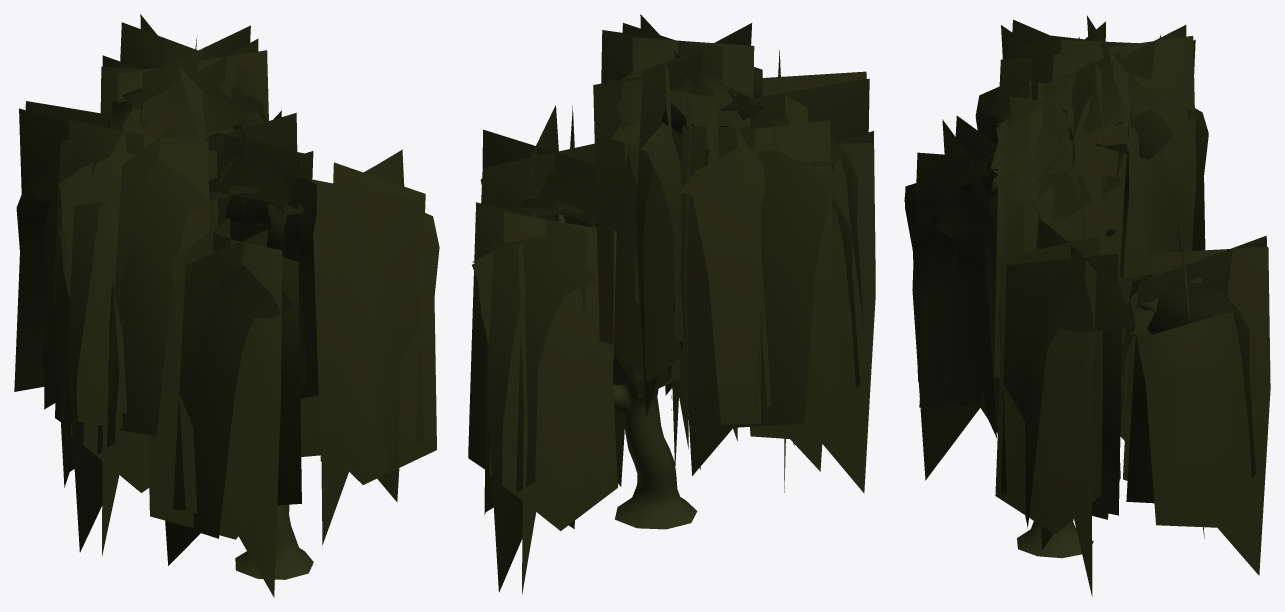
The model's file is willow01.glb.
3 renders of one model, left to right at view 1: azimuth 30°, elevation 25°; view 2: azimuth 150°, elevation 25°; view 3: azimuth 270°, elevation 25°, orthographic. The views are drawn at different scales.
Visible parts, largest first — view 1: willow01_LOD0; view 2: willow01_LOD0; view 3: willow01_LOD0.
Boxes of the visible parts, x1,y1,x2,y2 form: willow01_LOD0: (14,14,439,597); willow01_LOD0: (468,14,875,594); willow01_LOD0: (904,15,1270,596).
Size of what is drawn, in the model's own units: 4.17 by 5.55 by 3.75.
